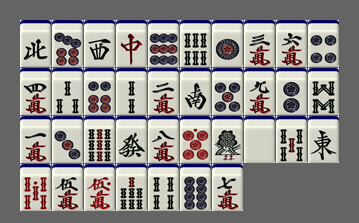0m: (84, 164, 115, 211)
0p: (180, 116, 211, 163)
0s: (20, 164, 51, 211)
1m: (20, 116, 51, 163)
1p: (212, 20, 243, 67)
1s: (212, 116, 243, 163)
1z: (308, 116, 339, 163)
2m: (148, 68, 179, 115)
2p: (276, 68, 307, 115)
2s: (116, 68, 147, 115)
2z: (180, 68, 211, 115)
3m: (244, 20, 275, 67)
3p: (52, 116, 83, 163)
3s: (52, 68, 83, 115)
3z: (84, 20, 115, 67)
4m: (20, 68, 51, 115)
4p: (308, 20, 339, 67)
4s: (148, 164, 179, 211)
4z: (20, 20, 51, 67)
5m: (52, 164, 83, 211)
5p: (212, 68, 243, 115)
5s: (276, 116, 307, 163)
5z: (244, 116, 275, 163)
6m: (276, 20, 307, 67)
6p: (84, 68, 115, 115)
6s: (180, 20, 211, 67)
6z: (116, 116, 147, 163)
7m: (212, 164, 243, 211)
7p: (52, 20, 83, 67)
7s: (116, 164, 147, 211)
7z: (116, 20, 147, 67)
8m: (148, 116, 179, 163)
8p: (180, 164, 211, 211)
8s: (308, 68, 339, 115)
9m: (244, 68, 275, 115)
9p: (148, 20, 179, 67)
9s: (84, 116, 115, 163)
